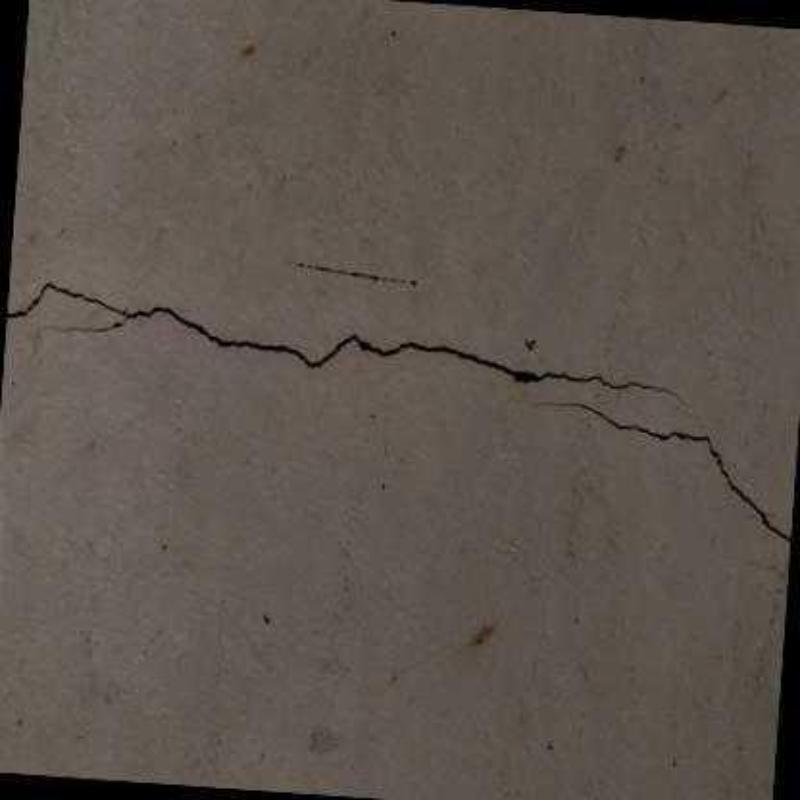crack: (5, 280, 672, 393), (536, 401, 791, 544), (40, 317, 129, 333)
